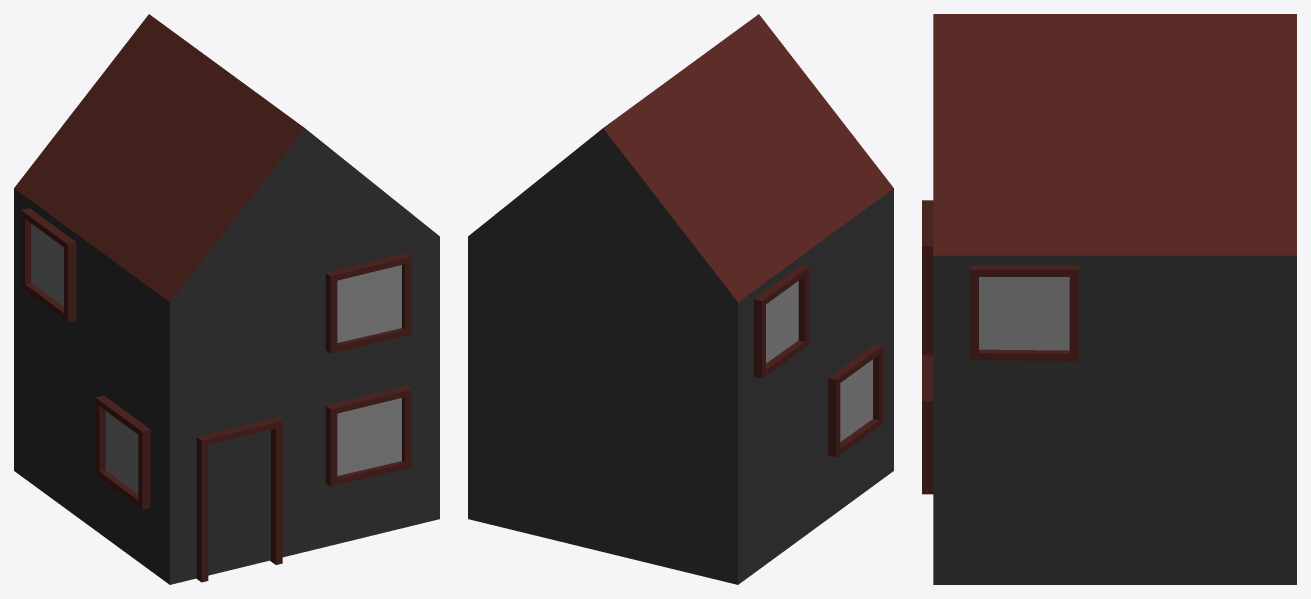
The model's file is simplebuildingfbx.fbx.
The picture shows the model from 3 angles, left to right: view 1: azimuth 30°, elevation 25°; view 2: azimuth 150°, elevation 25°; view 3: azimuth 270°, elevation 25°; orthographic projection. The views are drawn at different scales.
Parts seen in each view (by area): view 1: Cube; view 2: Cube; view 3: Cube.
Boxes of the visible parts, x1,y1,x2,y2 form: Cube: (14, 14, 439, 584); Cube: (468, 14, 893, 584); Cube: (922, 14, 1296, 584).
Bounding box in the file's own units: 42518 × 60179 × 41259.
